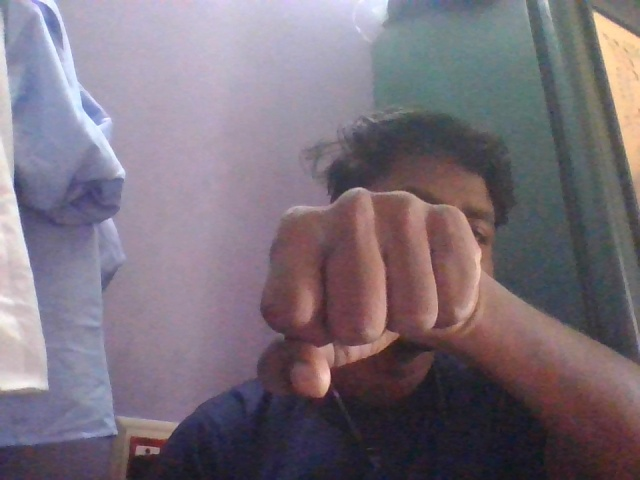yes: (253, 178, 494, 402)
